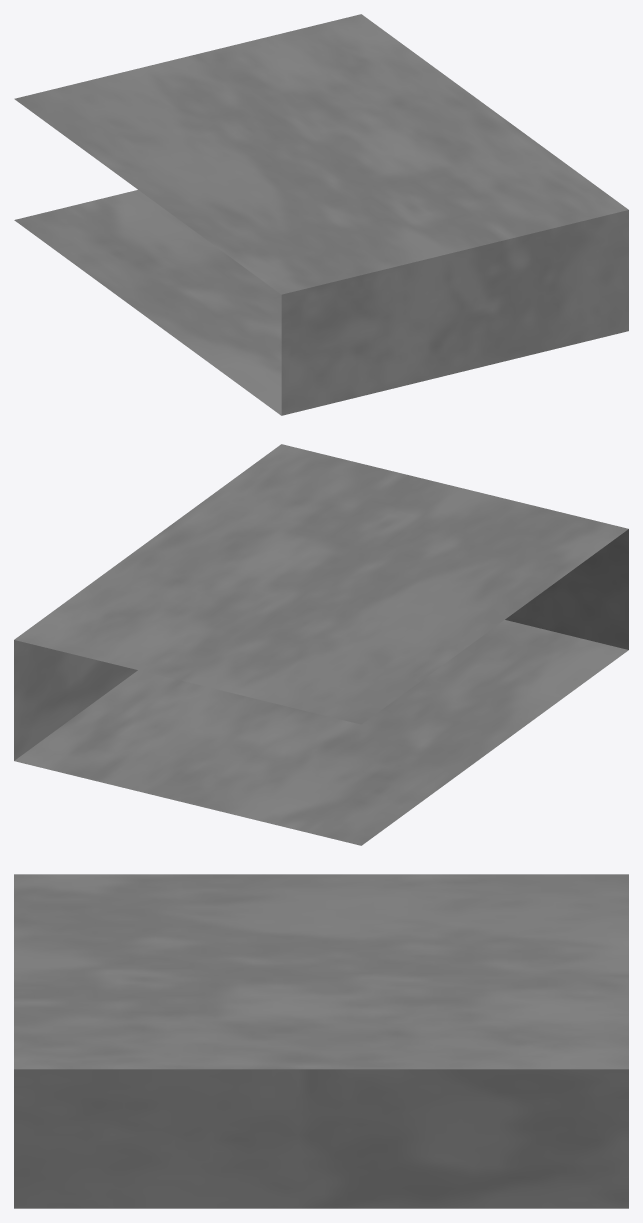
Rendered from grd_middle_right.fbx.
3 renders of one model, top to bottom at view 1: azimuth 30°, elevation 25°; view 2: azimuth 150°, elevation 25°; view 3: azimuth 270°, elevation 25°, orthographic. The views are drawn at different scales.
Parts seen in each view (by area): view 1: middle_right; view 2: middle_right; view 3: middle_right.
Part boxes in pixels (left/top/right/bottom): middle_right: left=14, top=14, right=628, bottom=415; middle_right: left=14, top=444, right=628, bottom=845; middle_right: left=14, top=874, right=628, bottom=1208.
Bounding box in the file's own units: 30 × 10 × 40.
